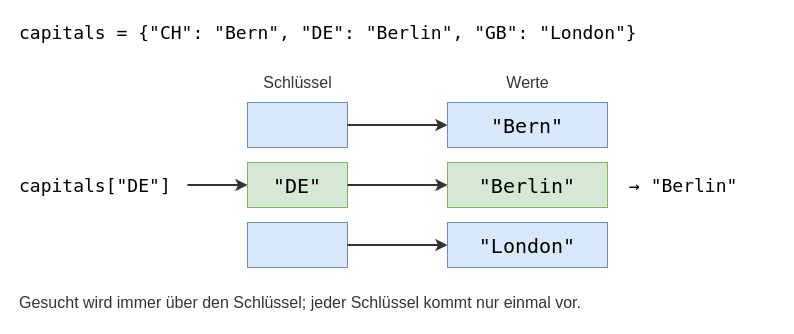
Image size: 794x334. Some labels were removed from this diagram. The centre of each missing label's shape, as x and y in pixels:
"CH": point 297,125
"GB": point 297,245
